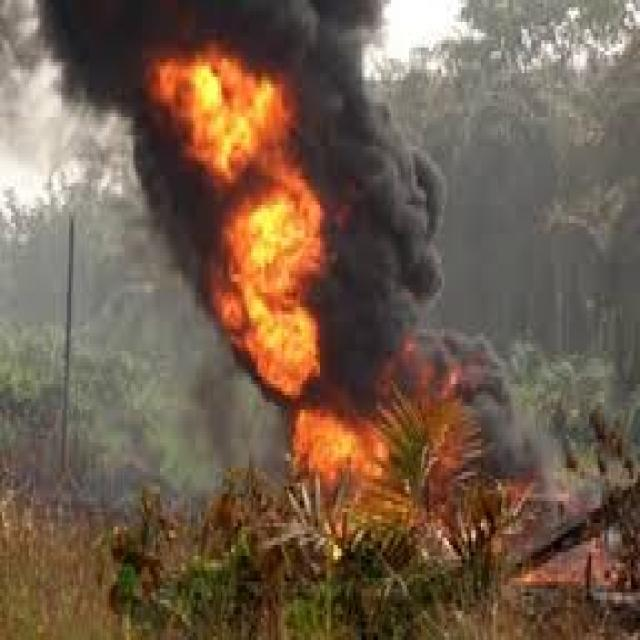Fire: (212, 182, 324, 396), (150, 42, 301, 179), (388, 346, 462, 527), (503, 482, 613, 589), (292, 410, 396, 512)
Smoke: (373, 115, 446, 346), (325, 186, 387, 410), (302, 0, 376, 179), (40, 0, 150, 111), (465, 343, 552, 482), (151, 184, 210, 304), (152, 0, 303, 43), (134, 112, 176, 208)
